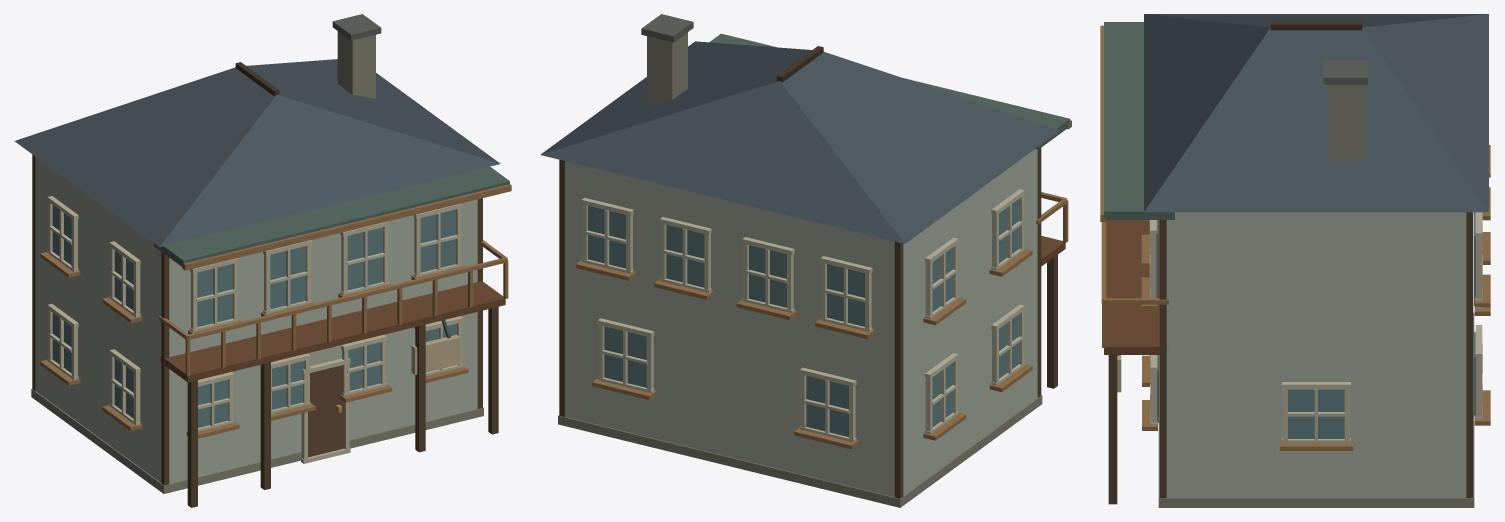
The model's file is Building_Settlement_GalleriedInn_001.glb.
The picture shows the model from 3 angles, left to right: view 1: azimuth 30°, elevation 25°; view 2: azimuth 150°, elevation 25°; view 3: azimuth 270°, elevation 25°; orthographic projection. The views are drawn at different scales.
Visible parts, largest first — view 1: Building_Settlement_GalleriedInn_001; view 2: Building_Settlement_GalleriedInn_001; view 3: Building_Settlement_GalleriedInn_001.
Part boxes in pixels (x1,y1,x2,y2): Building_Settlement_GalleriedInn_001: (14,14,511,507); Building_Settlement_GalleriedInn_001: (540,14,1071,507); Building_Settlement_GalleriedInn_001: (1100,14,1490,507).
Bounding box in the file's own units: 8.01 × 7.71 × 6.62.
